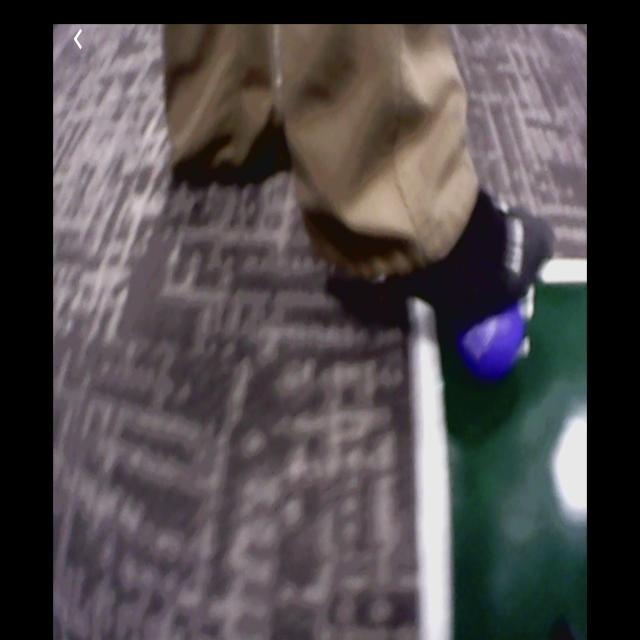ball: (464, 307, 524, 376)
